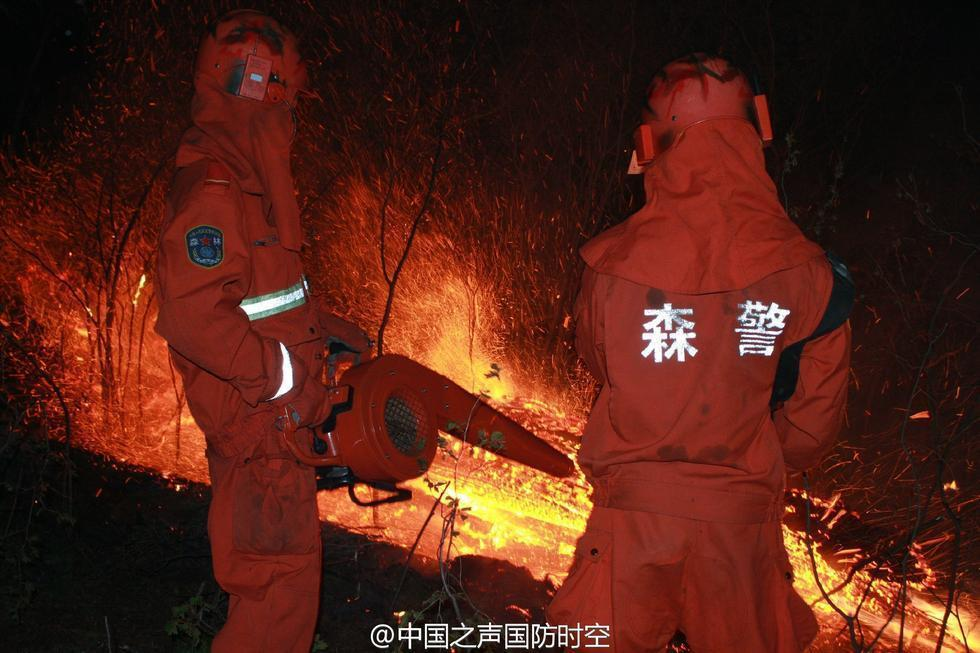fire: (11, 182, 213, 489), (780, 473, 977, 650), (338, 195, 507, 382), (411, 457, 591, 587)
